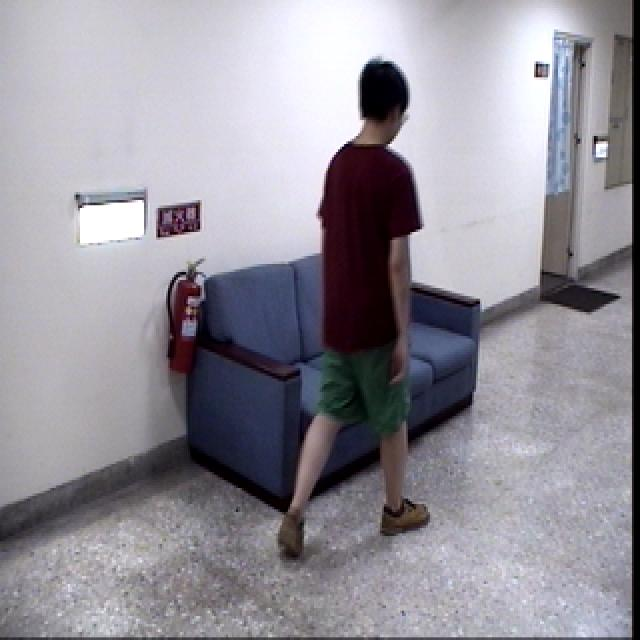stand: (273, 46, 441, 568)
